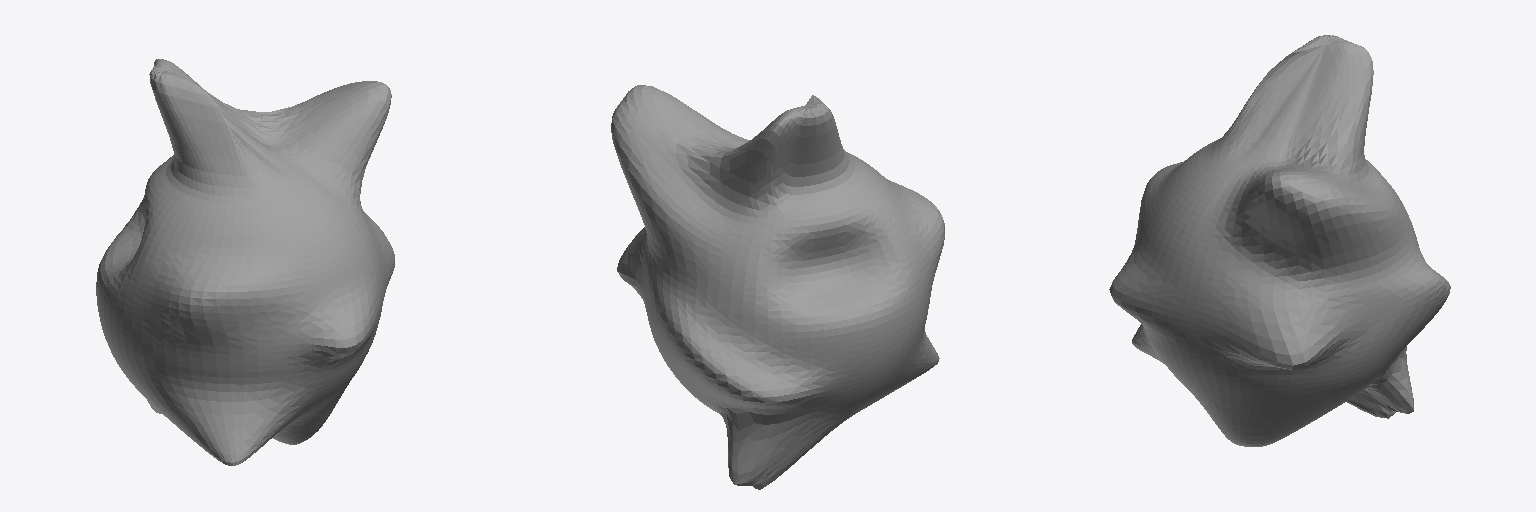
File: piel.obj
3 views of the same model, side by side, from view 1: azimuth 30°, elevation 25°; view 2: azimuth 150°, elevation 25°; view 3: azimuth 270°, elevation 25° (orthographic).
Parts seen in each view (by area): view 1: Sphere; view 2: Sphere; view 3: Sphere.
Part boxes in pixels (x1,y1,x2,y2): Sphere: (96,59,394,465); Sphere: (611,85,944,489); Sphere: (1109,35,1450,446).
Bounding box in the file's own units: 2.22 × 2.75 × 2.31.